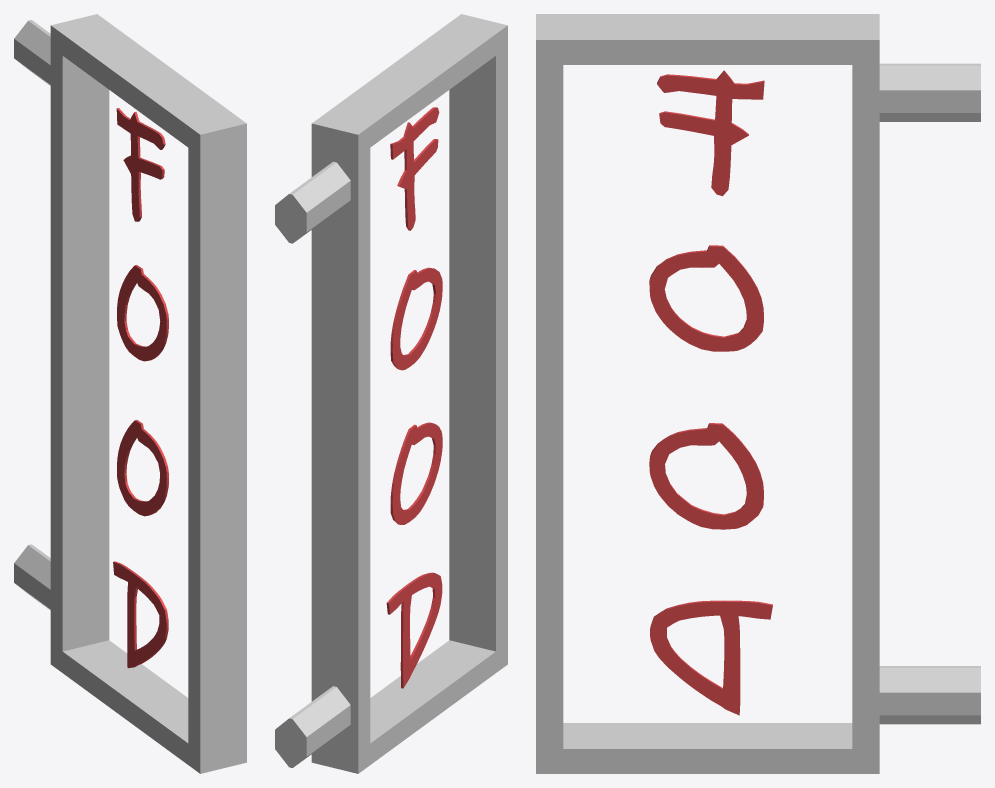
The model's file is SIGN2.fbx.
3 renders of one model, left to right at view 1: azimuth 30°, elevation 25°; view 2: azimuth 150°, elevation 25°; view 3: azimuth 270°, elevation 25°, orthographic. The views are drawn at different scales.
Visible parts, largest first — view 1: SIGN1.1; view 2: SIGN1.1; view 3: SIGN1.1.
Part boxes in pixels (x1,y1,x2,y2): SIGN1.1: [14, 14, 246, 773]; SIGN1.1: [275, 14, 507, 773]; SIGN1.1: [536, 14, 980, 773].
Size of the model in its own units: 11.42 by 150 by 82.4.
